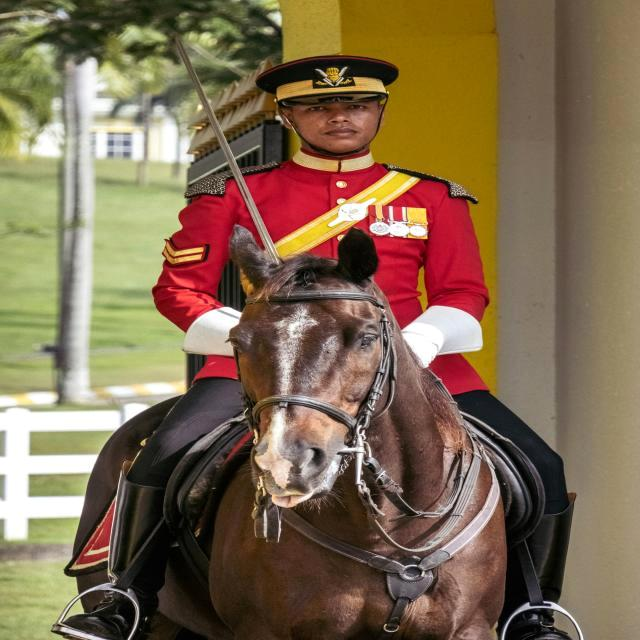no_hard_hat: (256, 55, 399, 104)
person: (243, 55, 489, 394), (153, 170, 259, 379)
